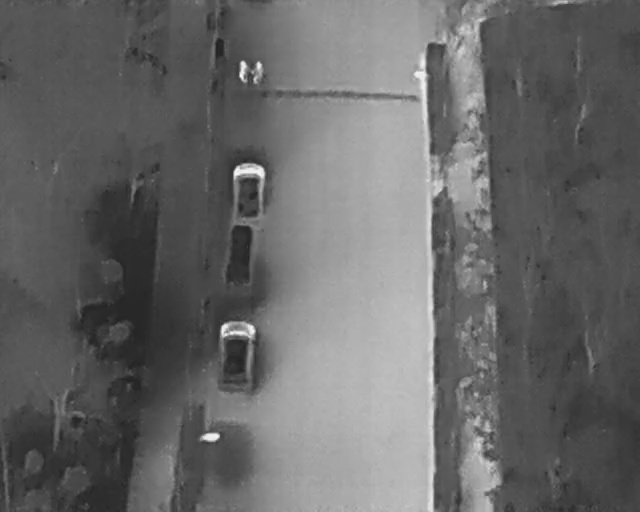Car: (215, 317, 259, 395), (224, 221, 255, 289), (232, 162, 265, 223)
Person: (251, 60, 265, 88), (238, 59, 250, 85)
